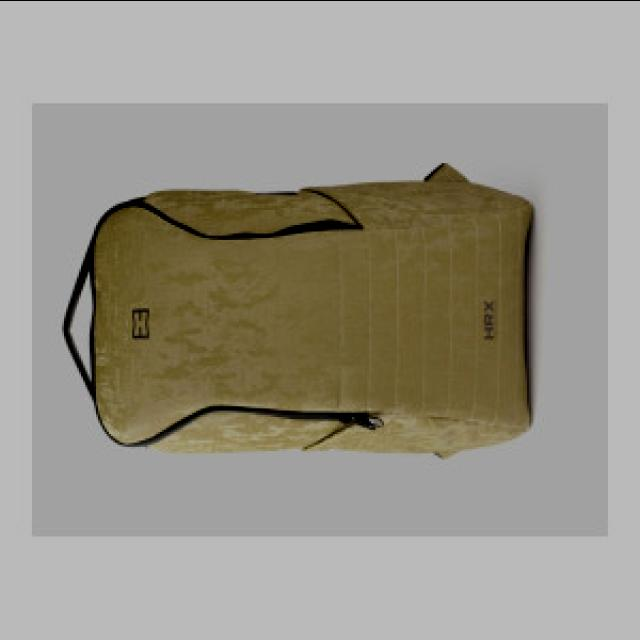backpack: (61, 164, 535, 460)
